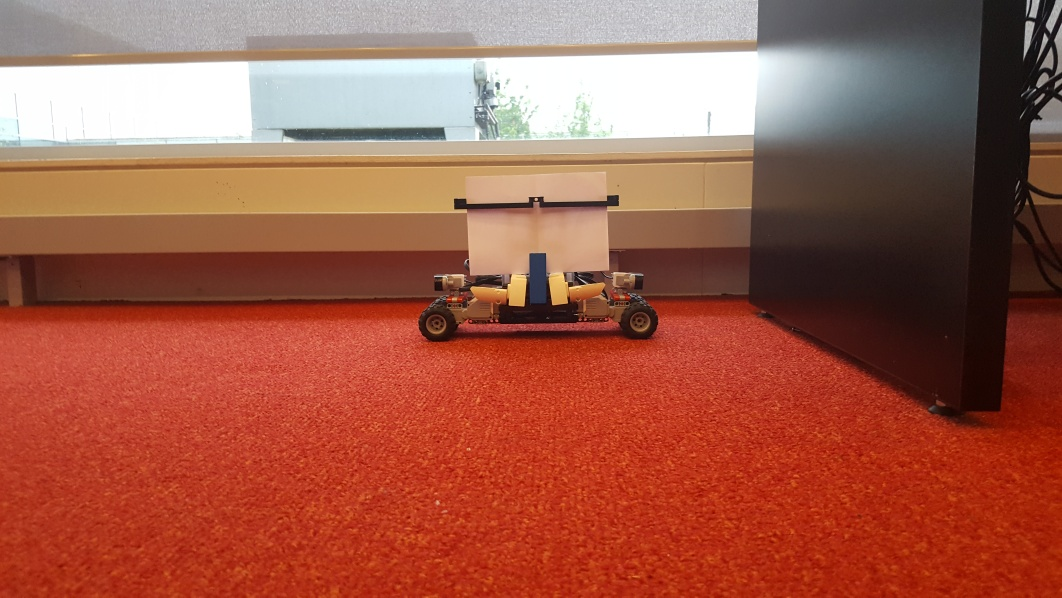car: (419, 171, 661, 340)
